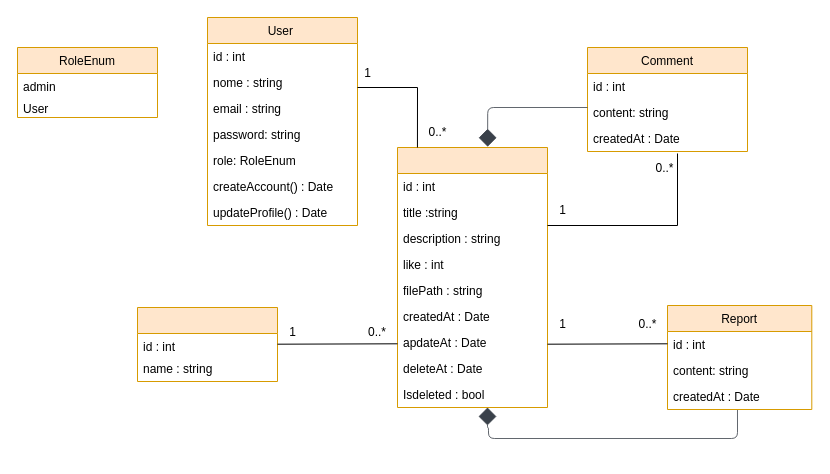
Image size: 830x474. Some labels were removed from this diagram. The shapes that lost their labels are listed below. From the top down, each one's box as (x1, y1, x2, y2) in pixels, then its label:
(396, 146, 548, 408): Artwork
(136, 306, 278, 382): Category
